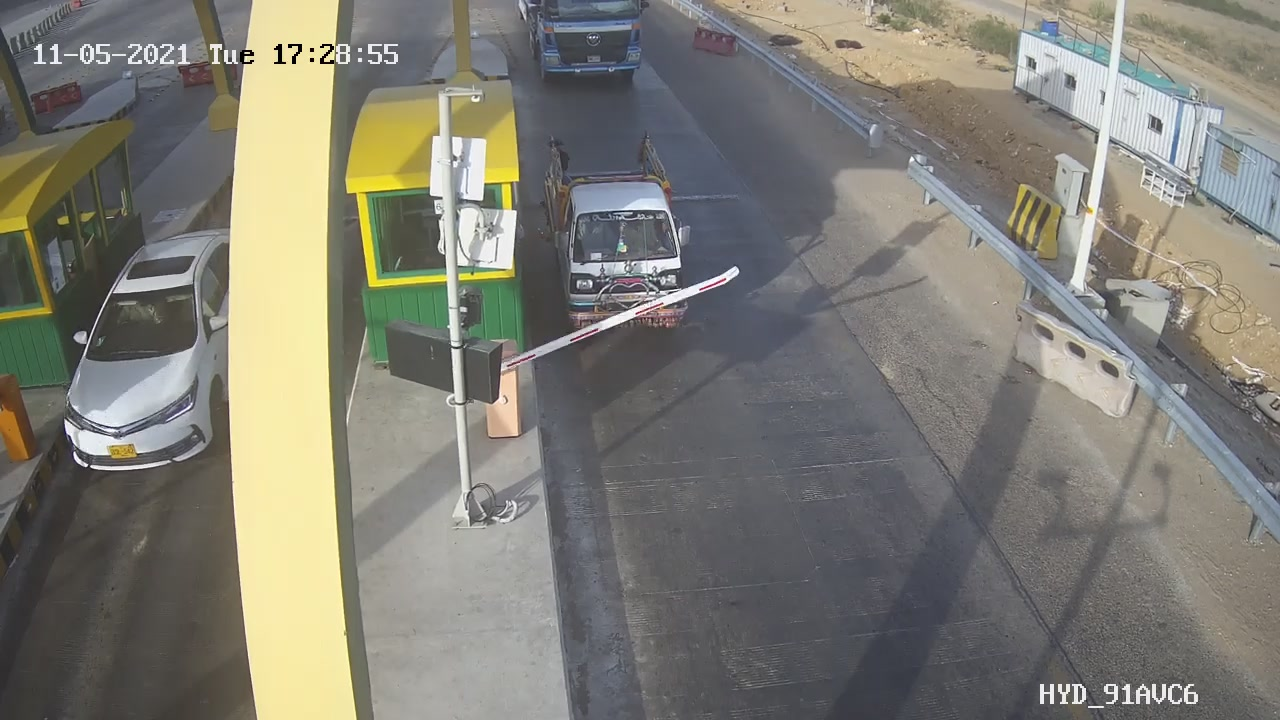F1: (536, 127, 710, 347)
